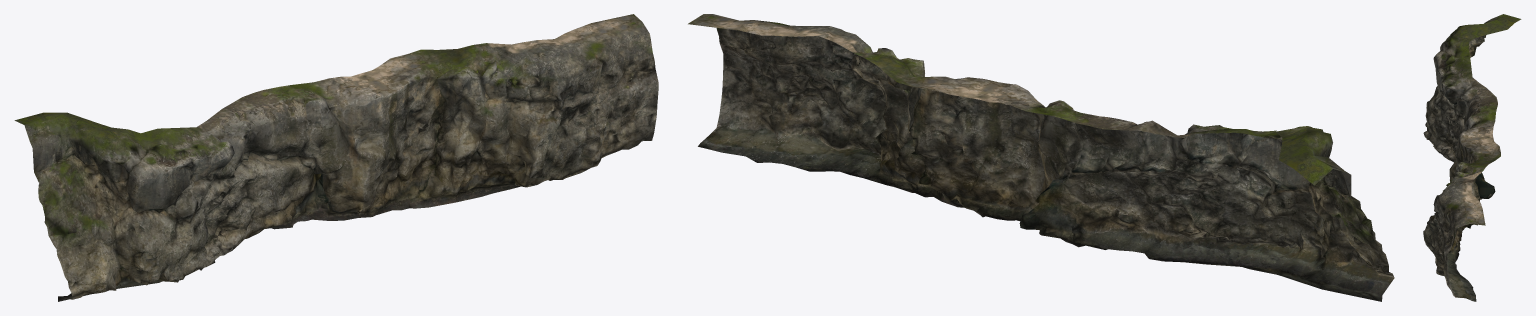
File: coastal_cliff_02.glb
The picture shows the model from 3 angles, left to right: view 1: azimuth 30°, elevation 25°; view 2: azimuth 150°, elevation 25°; view 3: azimuth 270°, elevation 25°; orthographic projection. The views are drawn at different scales.
Parts seen in each view (by area): view 1: coastal_cliff_02_LOD0; view 2: coastal_cliff_02_LOD0; view 3: coastal_cliff_02_LOD0.
Part boxes in pixels (x1=…): coastal_cliff_02_LOD0: x1=14, y1=14, x2=658, y2=301; coastal_cliff_02_LOD0: x1=688, y1=14, x2=1394, y2=301; coastal_cliff_02_LOD0: x1=1423, y1=14, x2=1521, y2=301.
Bounding box in the file's own units: 40.93 × 10 × 8.6.
1 material, 1 textured.
